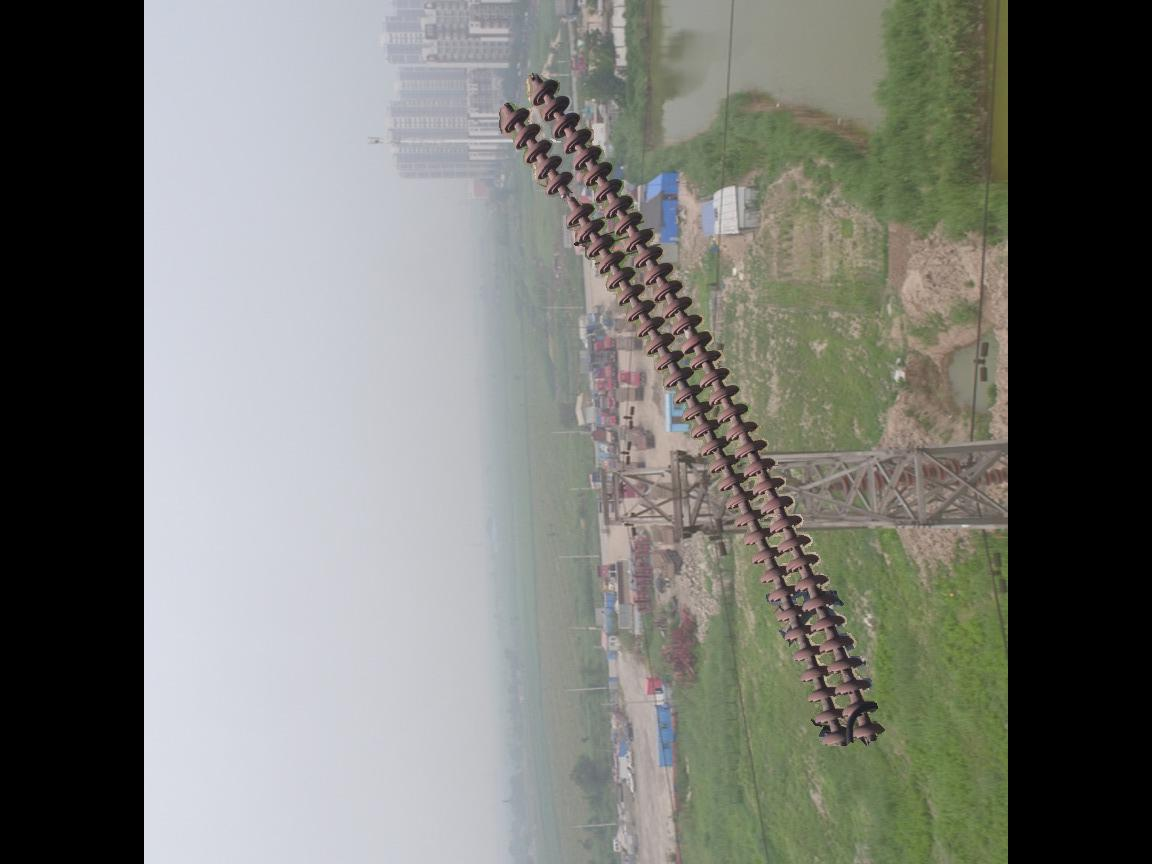insulator: (498, 73, 889, 754), (844, 456, 1007, 502)
insulator_stringdrop: (542, 168, 597, 232)
